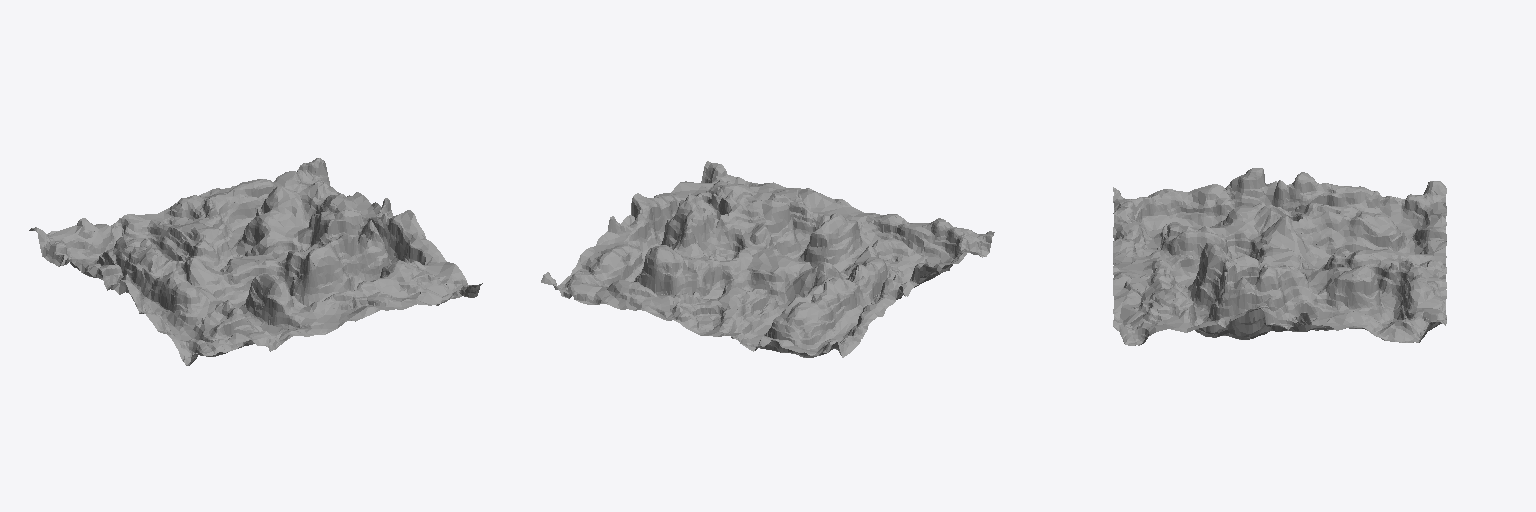
Rendered from graben_new_reduced.obj.
The picture shows the model from 3 angles: view 1: azimuth 30°, elevation 25°; view 2: azimuth 150°, elevation 25°; view 3: azimuth 270°, elevation 25°; orthographic projection.
Visible parts, largest first — view 1: Mesh_terrain_g; view 2: Mesh_terrain_g; view 3: Mesh_terrain_g.
Part boxes in pixels (bbox=[...]): Mesh_terrain_g: bbox=[29, 158, 482, 365]; Mesh_terrain_g: bbox=[541, 161, 994, 357]; Mesh_terrain_g: bbox=[1113, 168, 1446, 345].
Bounding box in the file's own units: 28781 × 5628 × 28766.